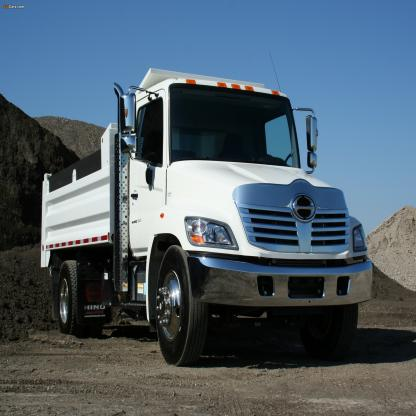dump_truck: (27, 50, 381, 388)
